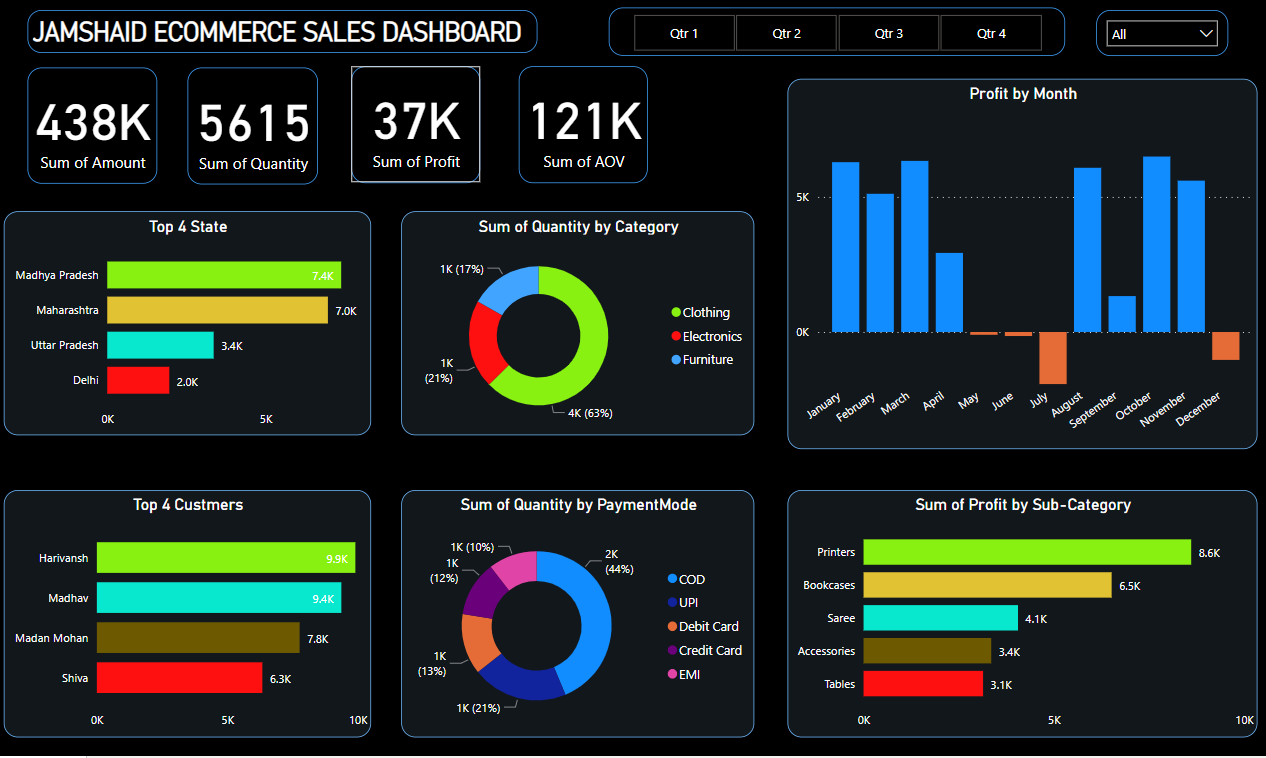

The dashboard page shown, as its layout file describes it:
{"tool":"powerbi","page":{"name":"Page 1","canvas":[1348,802],"ordinal":0},"visuals":[{"type":"textbox","box":[34.3,11,541.2,45.3],"z":0},{"type":"clusteredColumnChart","title":" Profit by Month","fields":{"Y":["Details store.Profit"],"Category":["Orders store.DATE.Variation.Date Hierarchy.Month"]},"box":[840.1,83.3,498.4,393.1],"z":1000},{"type":"barChart","fields":{"Category":["Details store.Sub-Category","Details store.Category"],"Y":["Details store.Profit"]},"box":[840.1,519.2,498.4,262.1],"z":2000},{"type":"donutChart","fields":{"Category":["Details store.Category"],"Y":["Details store.Quantity"]},"box":[431,224.1,374.7,237.6],"z":3000},{"type":"donutChart","fields":{"Category":["Details store.PaymentMode"],"Y":["Details store.Quantity"]},"box":[431,519.2,374.7,262.1],"z":4000},{"type":"card","fields":{"Values":["Details store.Amount"]},"box":[34.5,71.3,137.9,123],"z":5000},{"type":"card","fields":{"Values":["Details store.Quantity"]},"box":[204.5,71,138.4,123.7],"z":6000},{"type":"card","fields":{"Values":["Details store.Profit"]},"box":[377.2,69.8,137.2,123.7],"z":7000},{"type":"barChart","title":"Top 4 State","fields":{"Y":["Details store.Profit"],"Category":["Orders store.State"]},"box":[9.8,224.1,389.4,237.6],"z":8000},{"type":"barChart","title":"Top 4 Custmers","fields":{"Y":["Details store.Amount"],"Category":["Orders store.CustomerName"]},"box":[9.8,519.2,389.4,262.1],"z":9000},{"type":"slicer","fields":{"Values":["Orders store.DATE.Variation.Date Hierarchy.Quarter"]},"box":[650.2,8.6,483.7,51.4],"z":10000},{"type":"card","fields":{"Values":["Details store.AOV"]},"box":[556,69.8,137.2,123.7],"z":11000},{"type":"slicer","fields":{"Values":["Orders store.State"]},"box":[1168.2,11,139.6,49],"z":12000}]}

Visuals, with their boxes in screenshot pixels (x1, y1, x2, y2), scaled from the page's 1348x802 canvas onto the 1266x758 screenshot:
textbox: 32 10 540 53
" Profit by Month" clusteredColumnChart: 789 79 1257 450
barChart - Details store.Sub-Category x Details store.Category: 789 491 1257 738
donutChart - Details store.Category x Details store.Quantity: 405 212 757 436
donutChart - Details store.PaymentMode x Details store.Quantity: 405 491 757 738
card - Details store.Amount: 32 67 162 184
card - Details store.Quantity: 192 67 322 184
card - Details store.Profit: 354 66 483 183
"Top 4 State" barChart: 9 212 375 436
"Top 4 Custmers" barChart: 9 491 375 738
slicer - Orders store.DATE.Variation.Date Hierarchy.Quarter: 611 8 1065 57
card - Details store.AOV: 522 66 651 183
slicer - Orders store.State: 1097 10 1228 57
